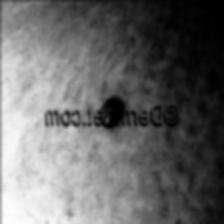Unclassified: (98, 98, 122, 130)
